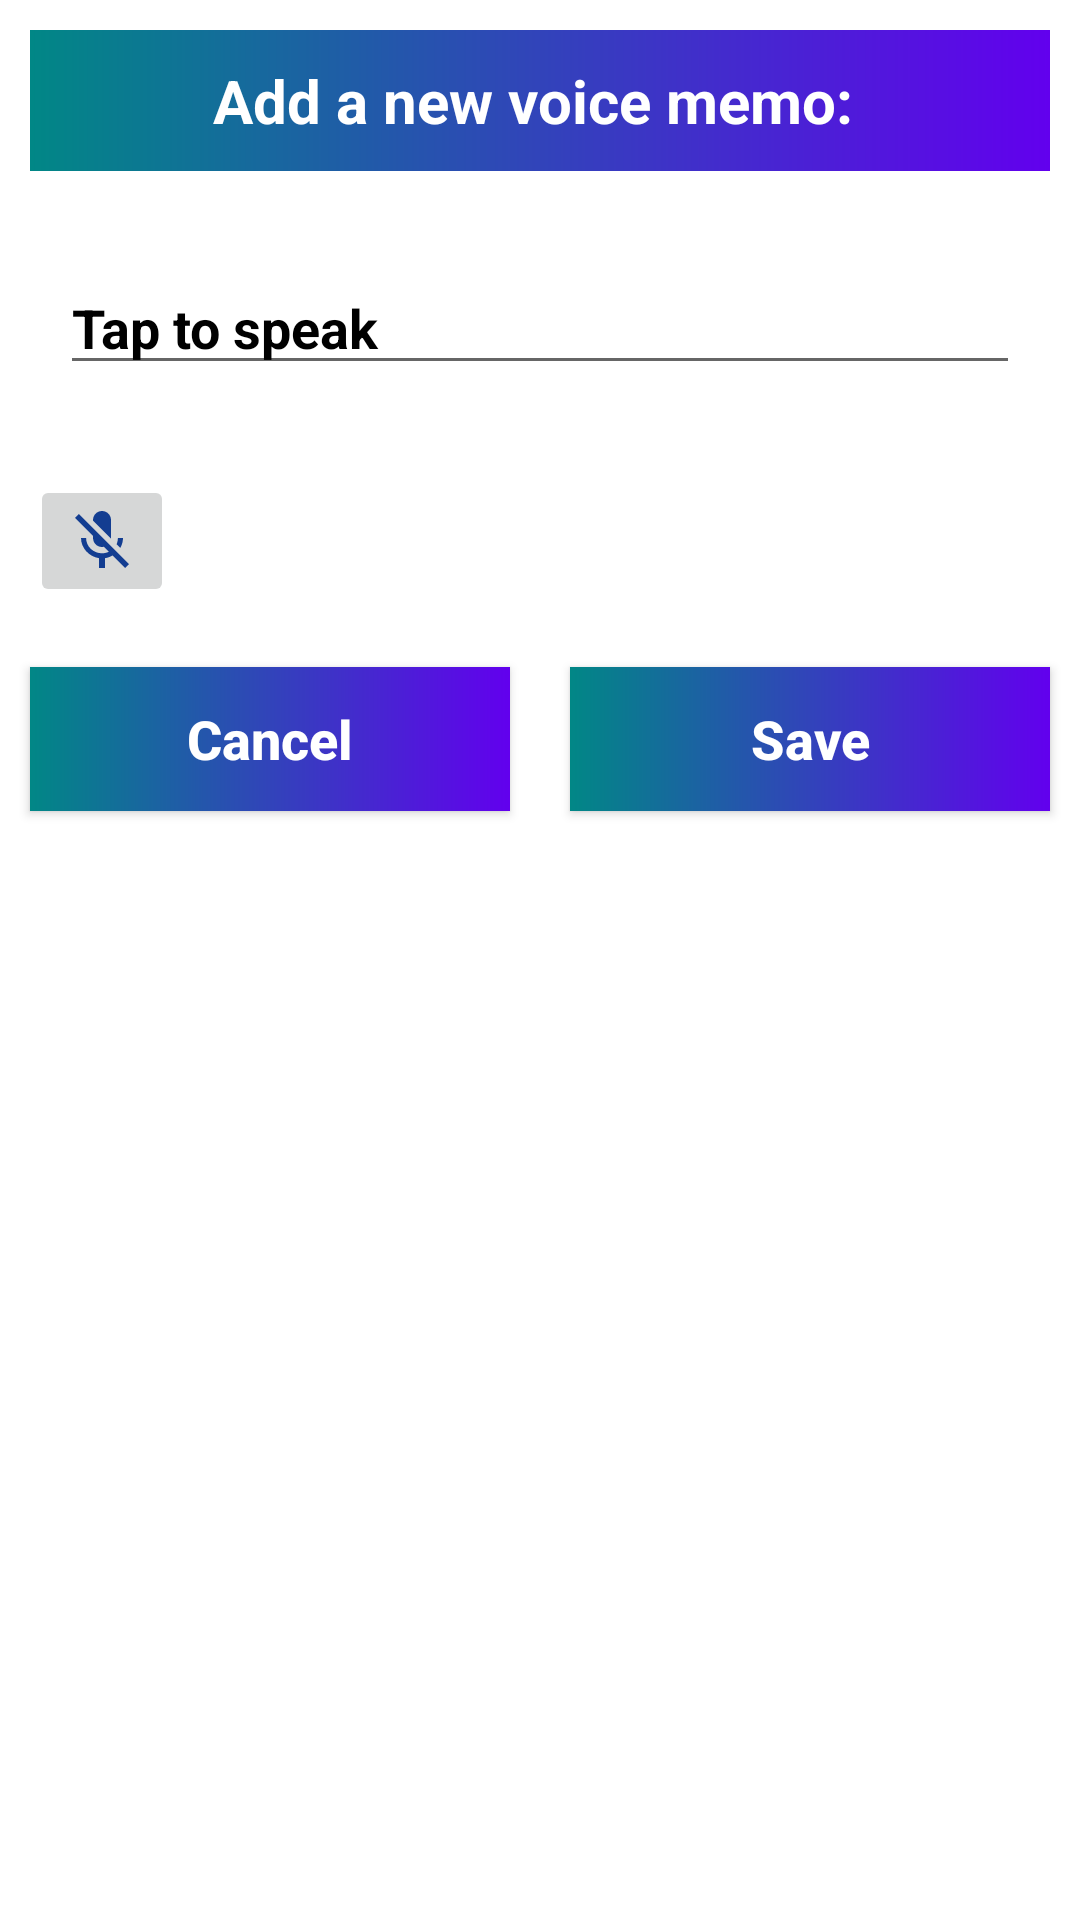

Point at icon controls on the screen. Image size 1080x1920, points as (x,y).
mic off: (102,541)
